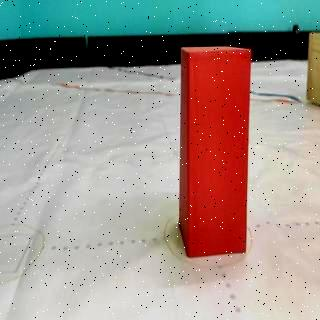redbox: (178, 45, 250, 259)
